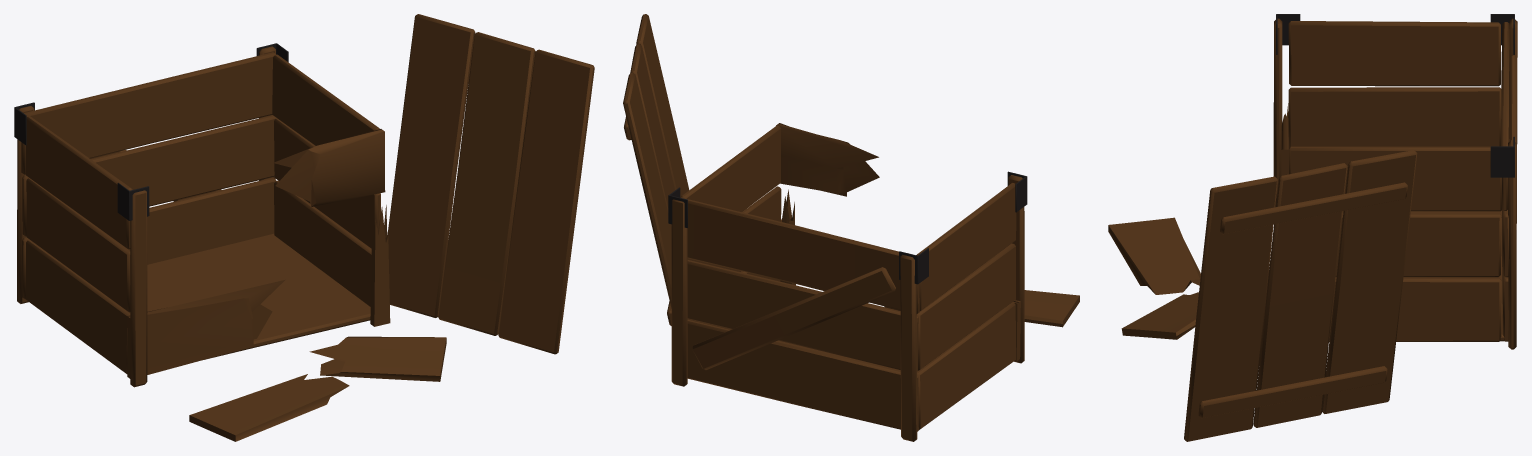
Rendered from kiste_kaputt.glb.
The picture shows the model from 3 angles, left to right: view 1: azimuth 30°, elevation 25°; view 2: azimuth 150°, elevation 25°; view 3: azimuth 270°, elevation 25°; orthographic projection. The views are drawn at different scales.
Visible parts, largest first — view 1: kiste_kaputt; view 2: kiste_kaputt; view 3: kiste_kaputt.
Part boxes in pixels (<box>): kiste_kaputt: <box>14,14,594,441</box>; kiste_kaputt: <box>623,14,1079,441</box>; kiste_kaputt: <box>1108,14,1517,441</box>.
Bounding box in the file's own units: 1.37 × 0.8063 × 1.08.
